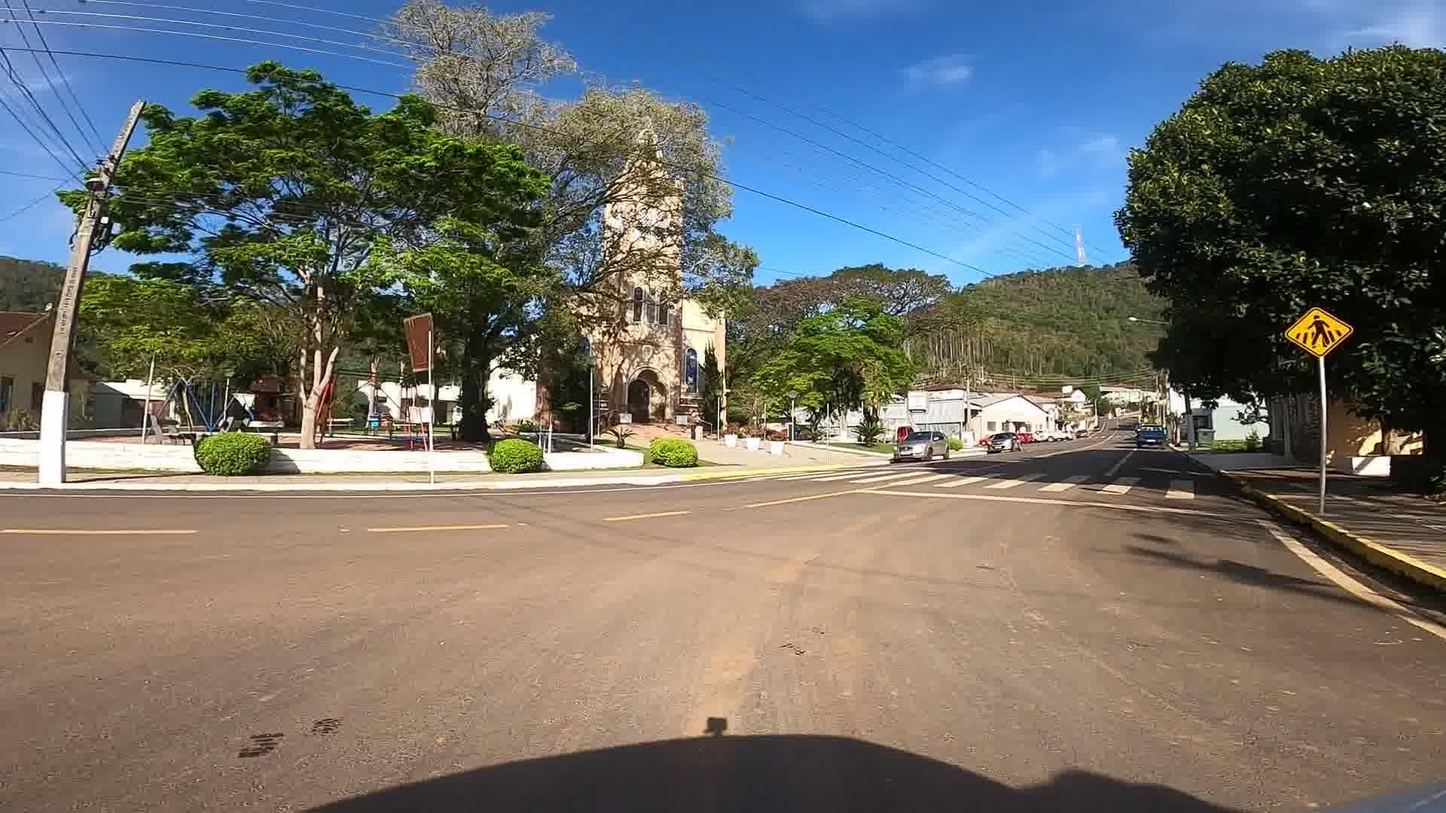A-32b: (1283, 303, 1353, 364)
